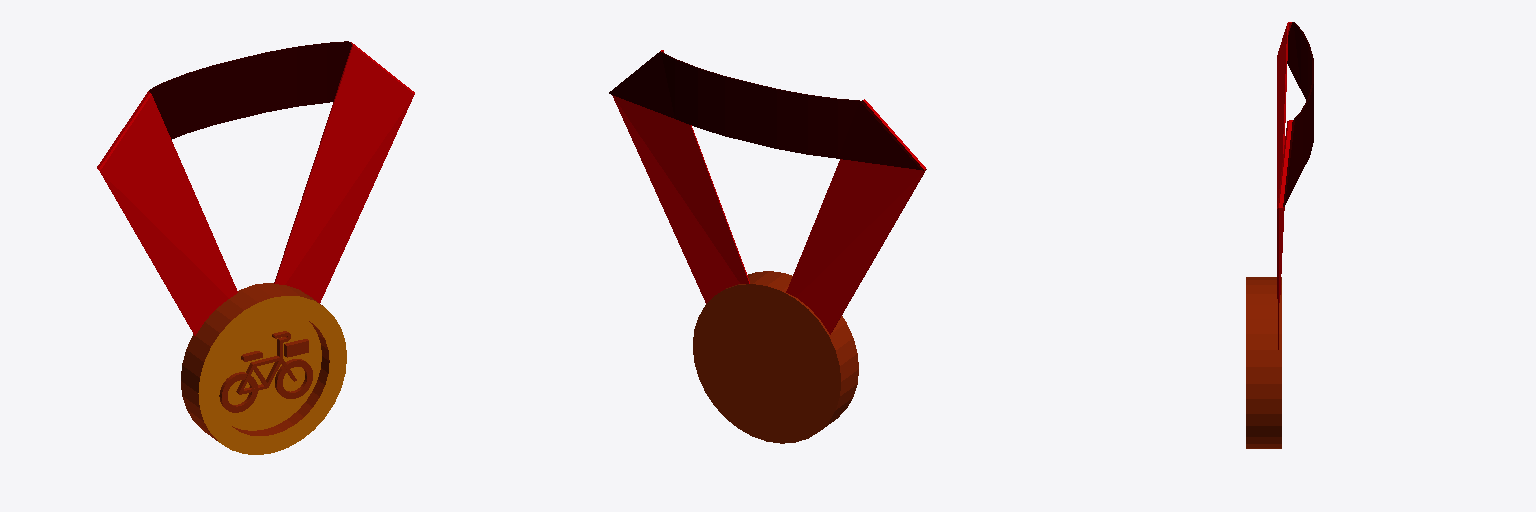
File: TransportMedal.obj
3 renders of one model, left to right at view 1: azimuth 30°, elevation 25°; view 2: azimuth 150°, elevation 25°; view 3: azimuth 270°, elevation 25°, orthographic.
Visible parts, largest first — view 1: MedalFabric.001_Plane.006, MedalTransport_Circle, BikeBodyMedal_Cube.001, BikeWheels.001_Cube; view 2: MedalFabric.001_Plane.006, MedalTransport_Circle; view 3: MedalTransport_Circle, MedalFabric.001_Plane.006.
Part boxes in pixels (left/top/right/bottom): MedalFabric.001_Plane.006: left=97, top=41, right=414, bottom=335; MedalTransport_Circle: left=181, top=283, right=346, bottom=454; BikeBodyMedal_Cube.001: left=236, top=331, right=308, bottom=394; BikeWheels.001_Cube: left=219, top=359, right=312, bottom=412; MedalFabric.001_Plane.006: left=609, top=50, right=926, bottom=334; MedalTransport_Circle: left=693, top=271, right=858, bottom=443; MedalTransport_Circle: left=1246, top=277, right=1281, bottom=448; MedalFabric.001_Plane.006: left=1277, top=22, right=1313, bottom=349.
Size of the model in its own units: 4.25 by 4.75 by 0.7827.